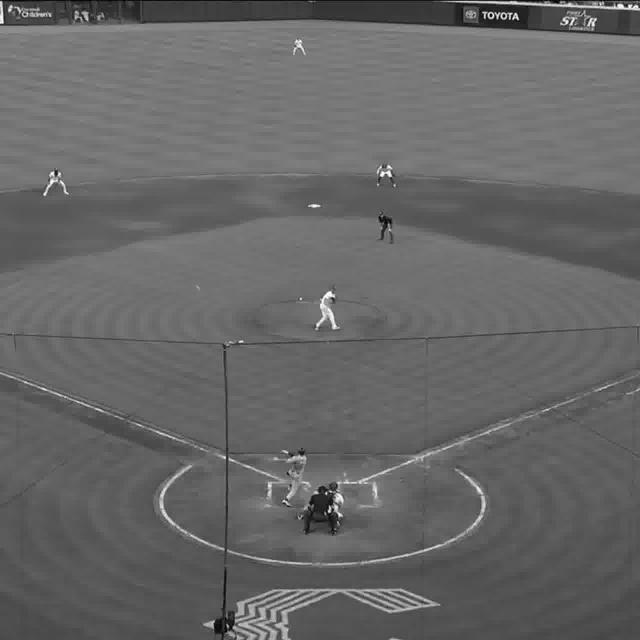base: (304, 202, 325, 210)
baseball: (192, 284, 203, 291)
bat: (252, 456, 283, 467)
